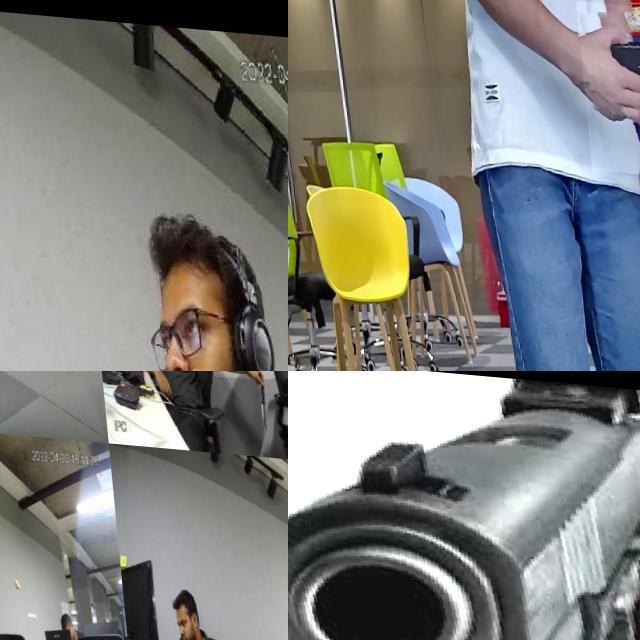-: (0, 371, 116, 403), (251, 371, 268, 426)
gun-knife-thesis - v11 Yolov5 augmented: (288, 371, 640, 640), (573, 0, 640, 172)
